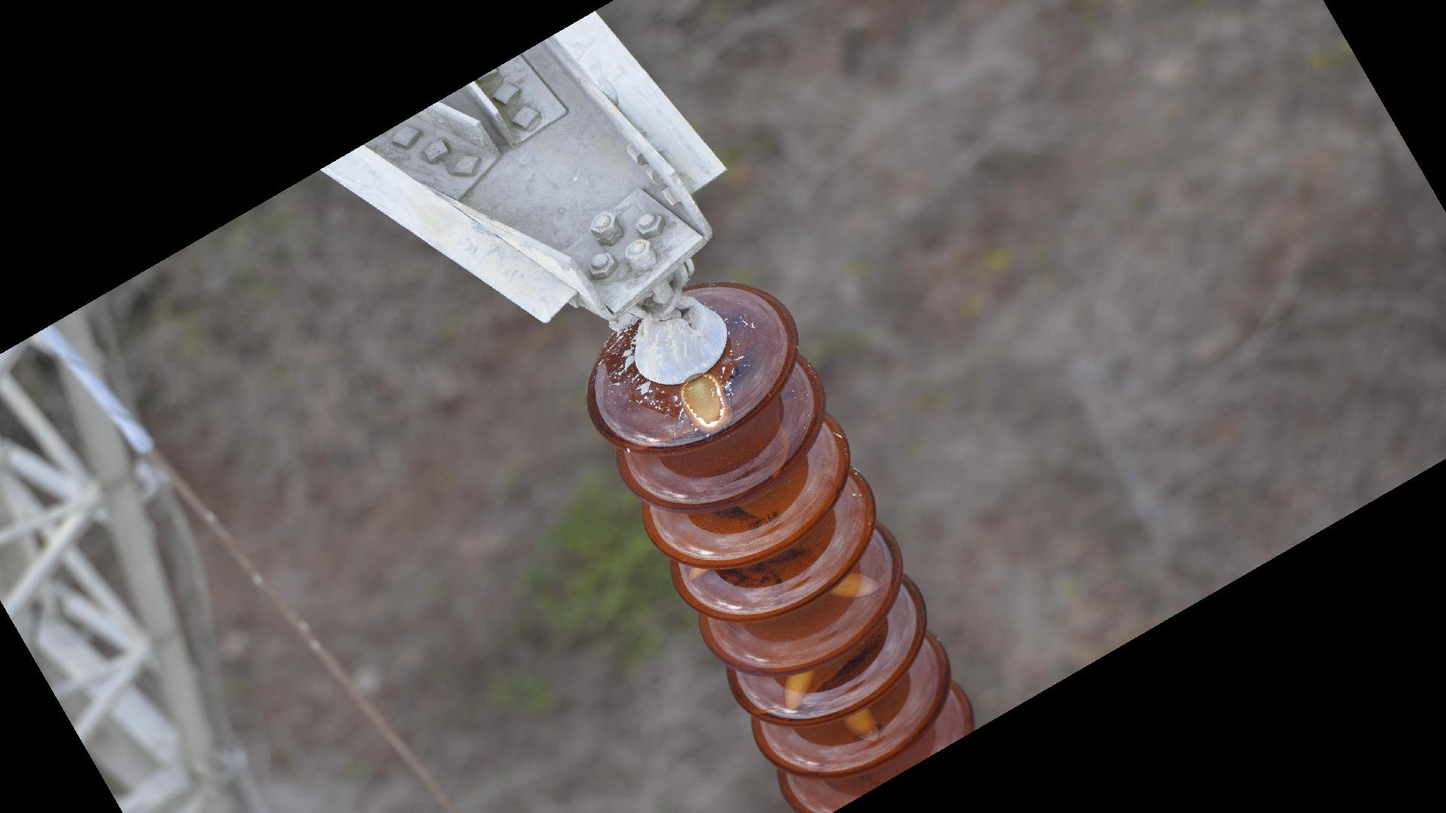insulator: (578, 276, 982, 813)
insulator_flashover: (673, 367, 732, 438), (826, 568, 883, 602), (781, 667, 816, 715), (840, 705, 882, 745)
